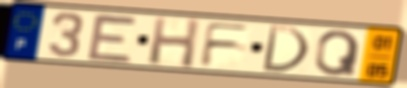3: (47, 10, 88, 61)
D: (259, 23, 312, 75)
E: (84, 11, 141, 65)
F: (198, 21, 253, 68)
H: (146, 16, 202, 70)
Q: (313, 29, 362, 78)
